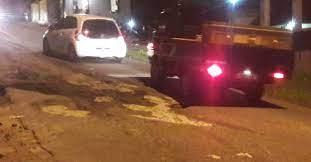Pothole: (2, 53, 251, 140)
